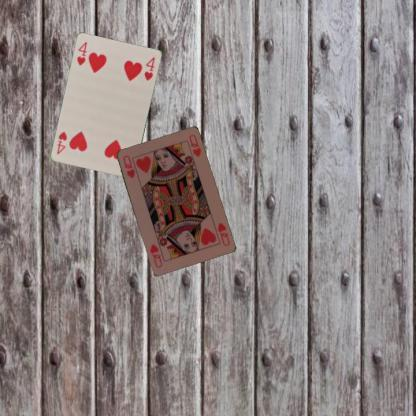4h: (74, 39, 88, 67)
Qh: (214, 220, 231, 247), (121, 152, 136, 180)
